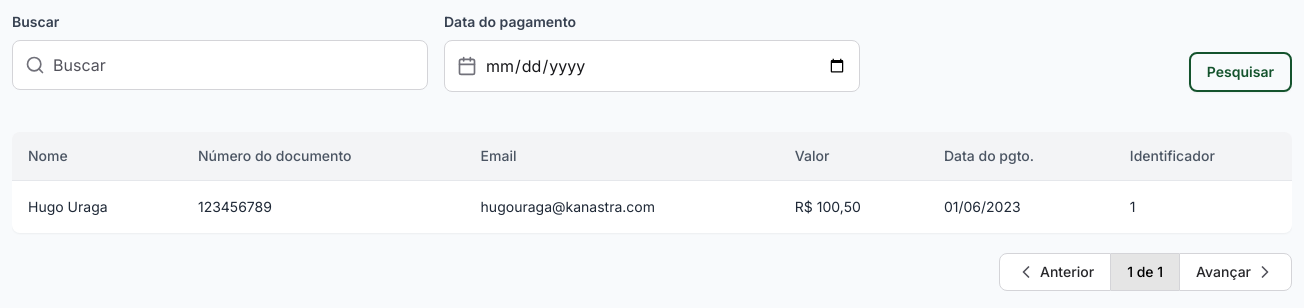
Test case: TableImportPreview component - Unit test › handles pagination correctly
Expected: the text "Hugo Uraga" is shown, [12, 180, 182, 232]
Click the button "Avançar" at (1236, 272), box [1179, 252, 1292, 290]
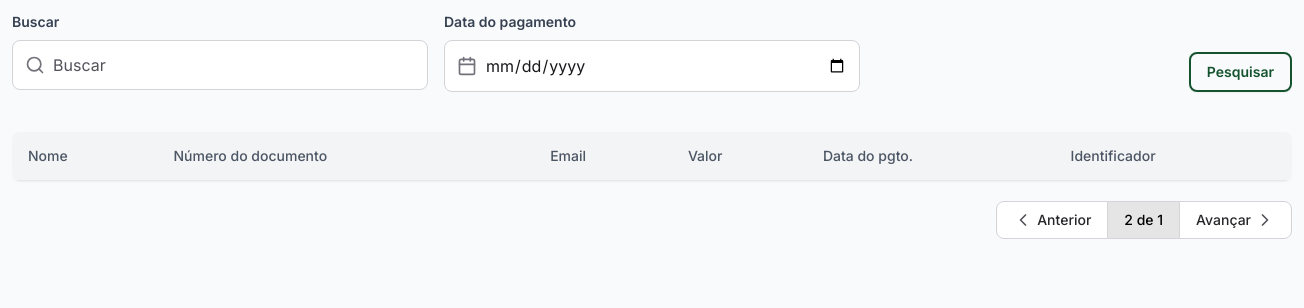
Now the text "Hugo Uraga" is gone
